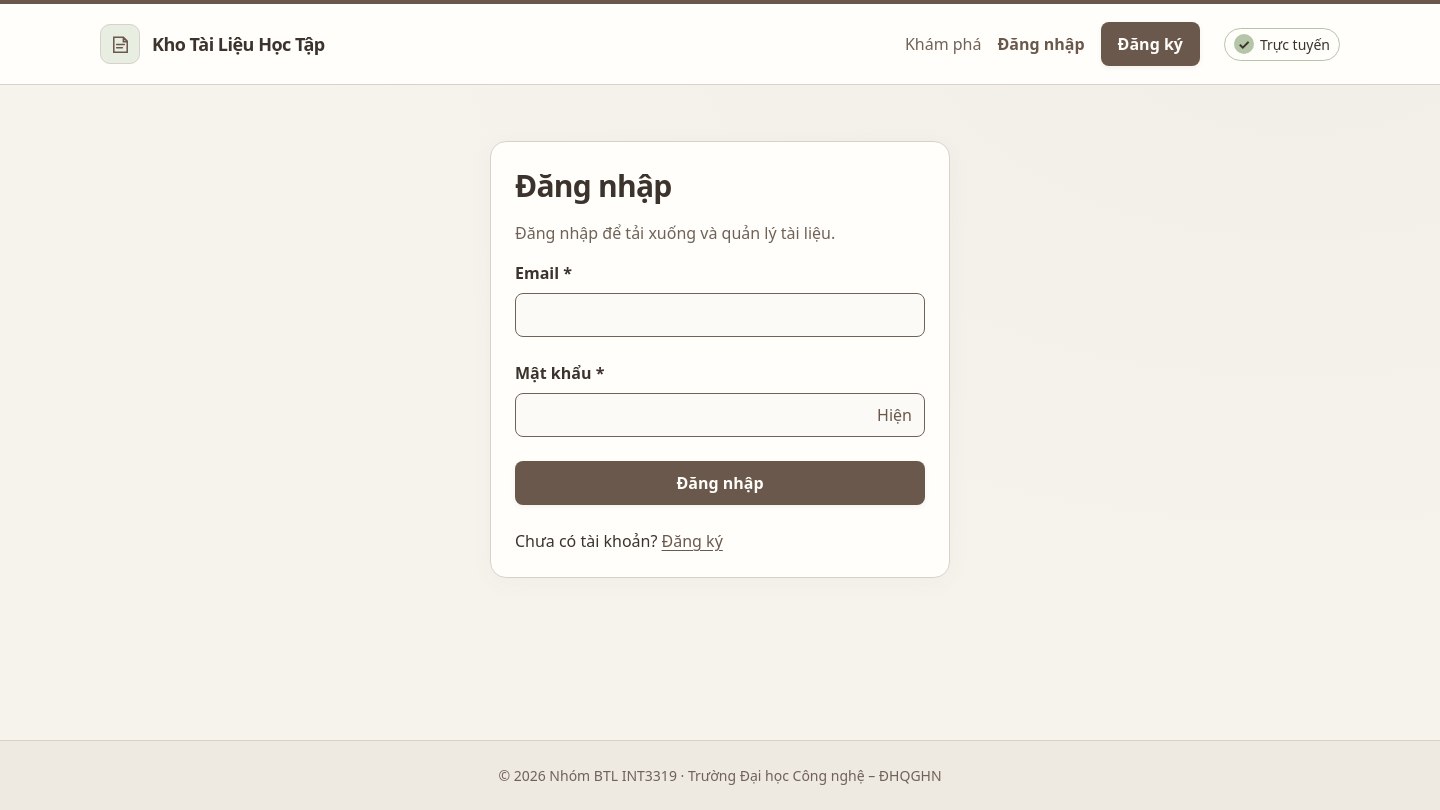
Test case: authentication, navigation and public discovery › shows common invalid-credentials error, clears and focuses password
This screenshot has width=1440, height=810.
Expected: the heading "Đăng nhập" is shown, [515, 165, 672, 206]
Type "a@example.com" into the field labelled "Email *" at coordinates (720, 315), box [515, 293, 925, 337]
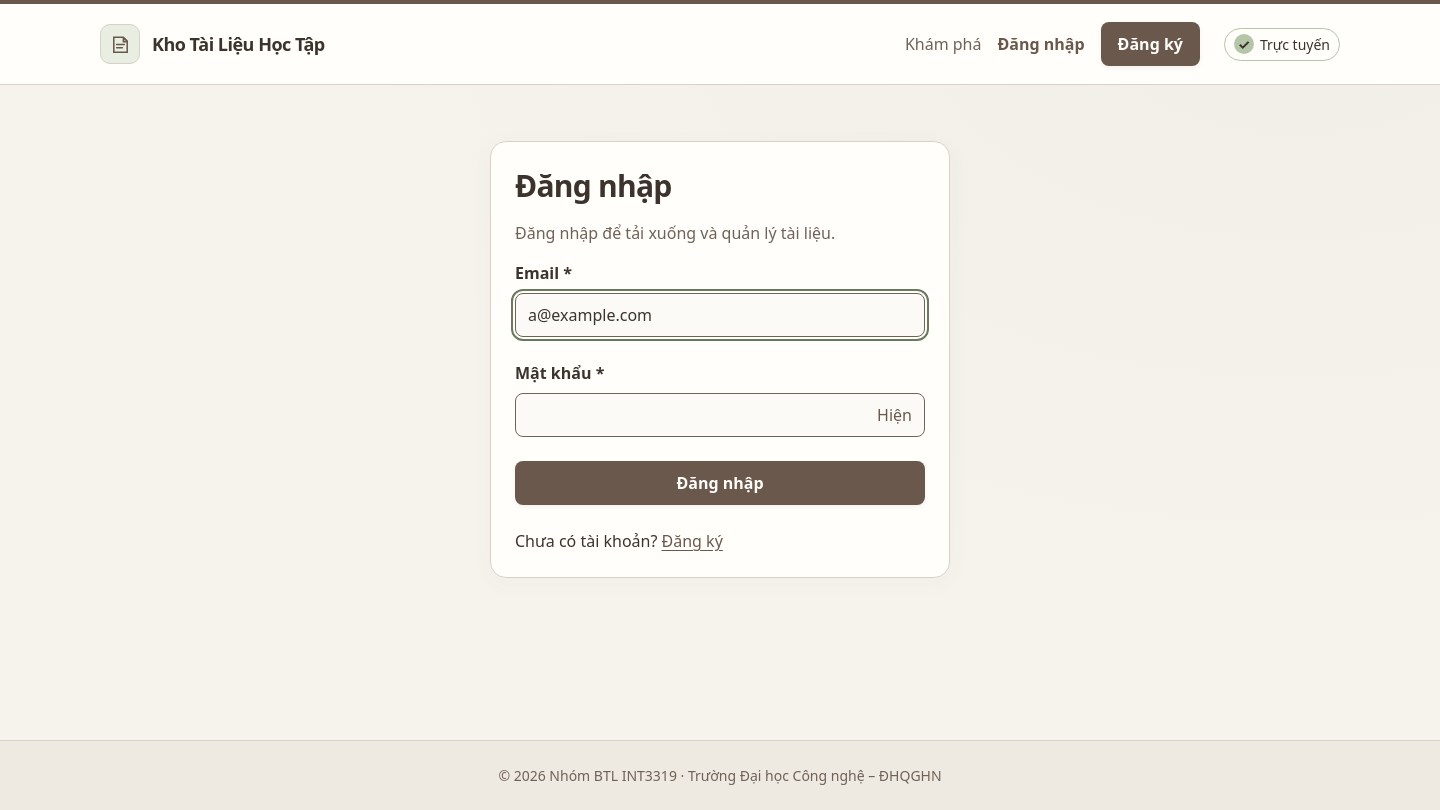
Type "wrong" into the password field labelled "Mật khẩu *" at coordinates (720, 415), box [515, 393, 925, 437]
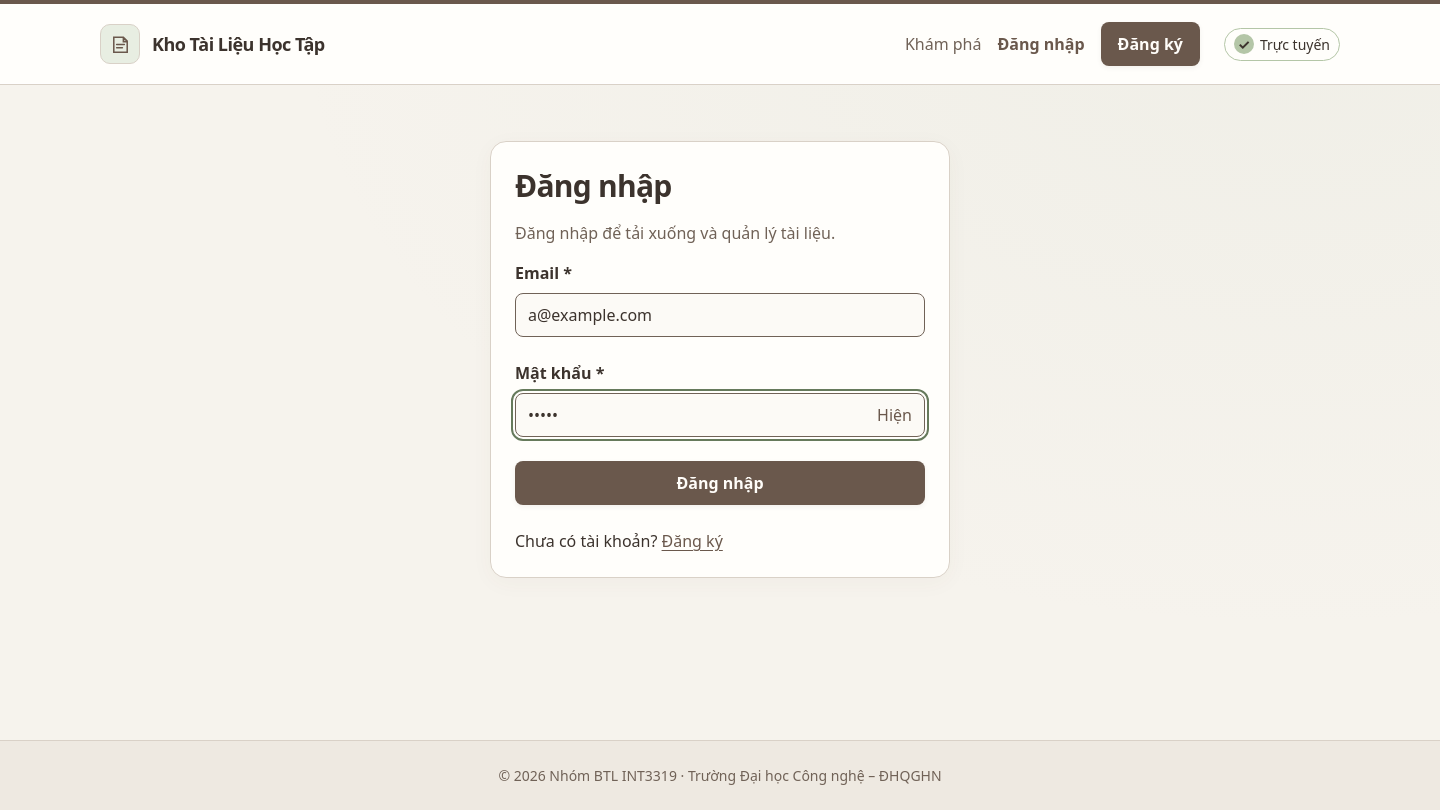
Click the button "Đăng nhập" at coordinates (720, 483), box [515, 461, 925, 505]
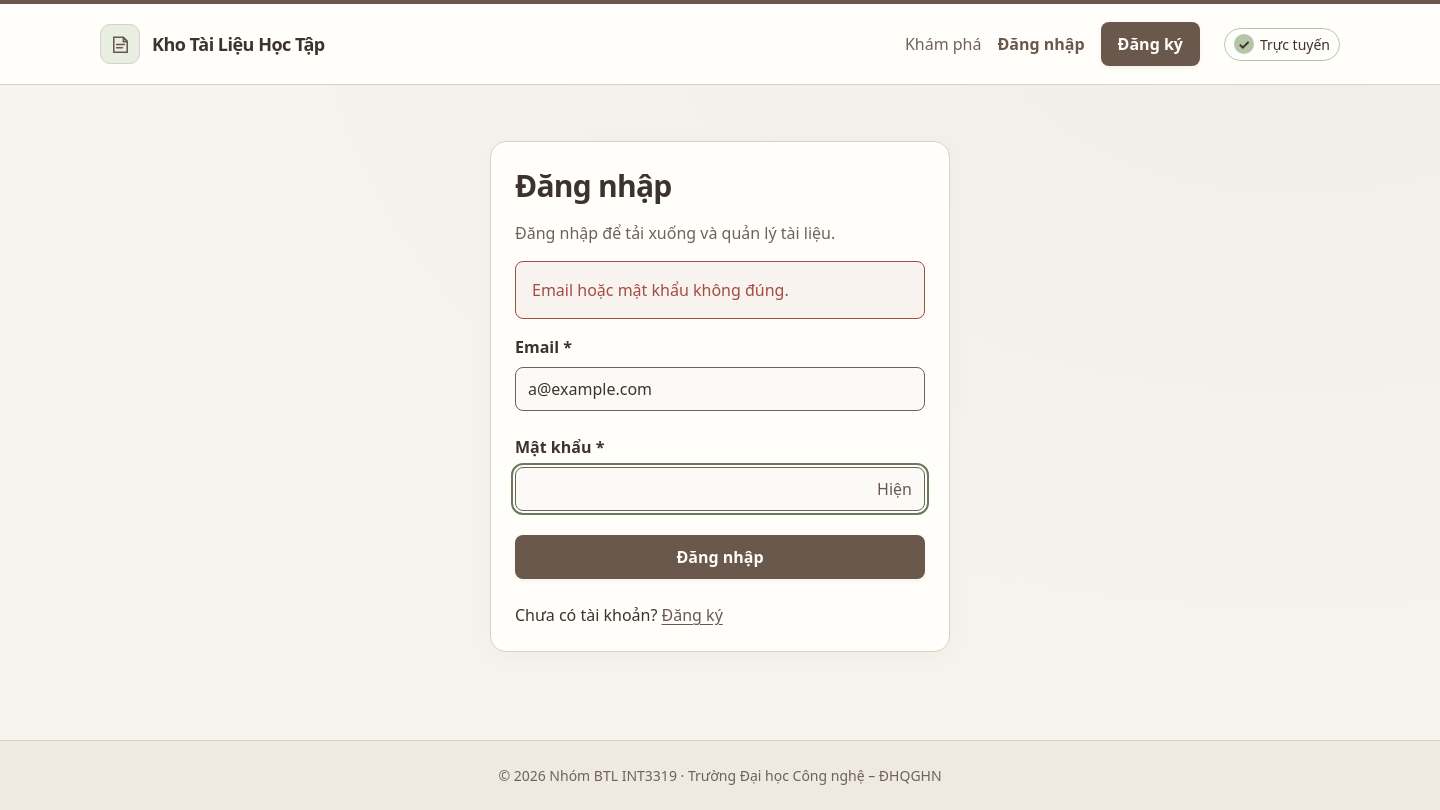
Result: the message reads "Email hoặc mật khẩu không đúng." at [532, 279, 789, 301]
Result: the password field labelled "Mật khẩu *" is empty at [515, 467, 925, 511]
